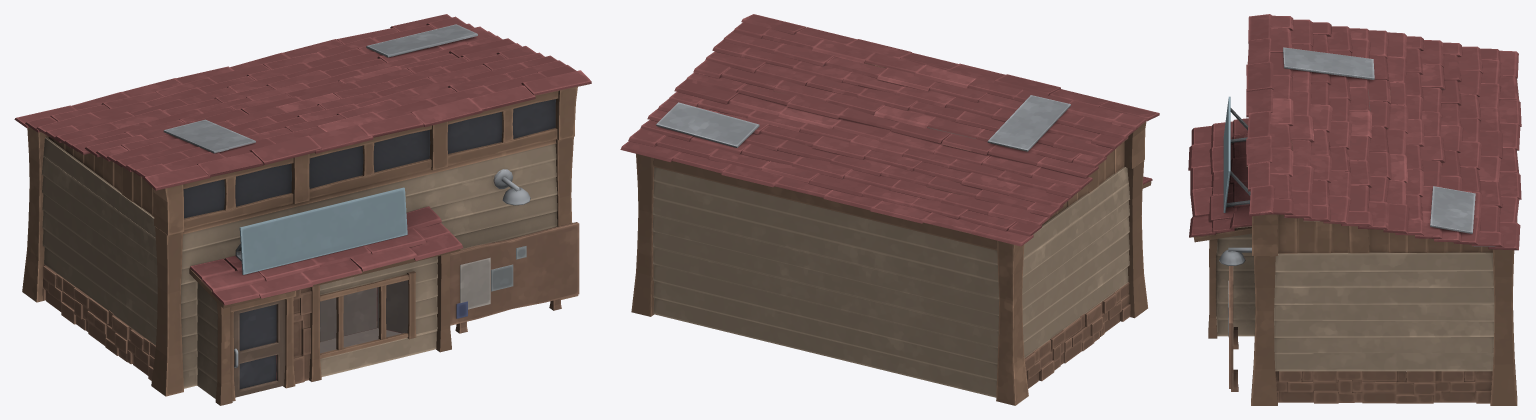
File: MarketBuildingDemo.glb
3 views of the same model, side by side, from view 1: azimuth 30°, elevation 25°; view 2: azimuth 150°, elevation 25°; view 3: azimuth 270°, elevation 25° (orthographic). The views are drawn at different scales.
Visible parts, largest first — view 1: MarketBuilding; view 2: MarketBuilding; view 3: MarketBuilding.
Boxes of the visible parts, <box> form: MarketBuilding: <box>14,14,591,405</box>; MarketBuilding: <box>620,14,1159,405</box>; MarketBuilding: <box>1188,14,1521,405</box>.
Bounding box in the file's own units: 10.25 × 4.85 × 7.27.
Materials: 1 (1 with a texture image).
